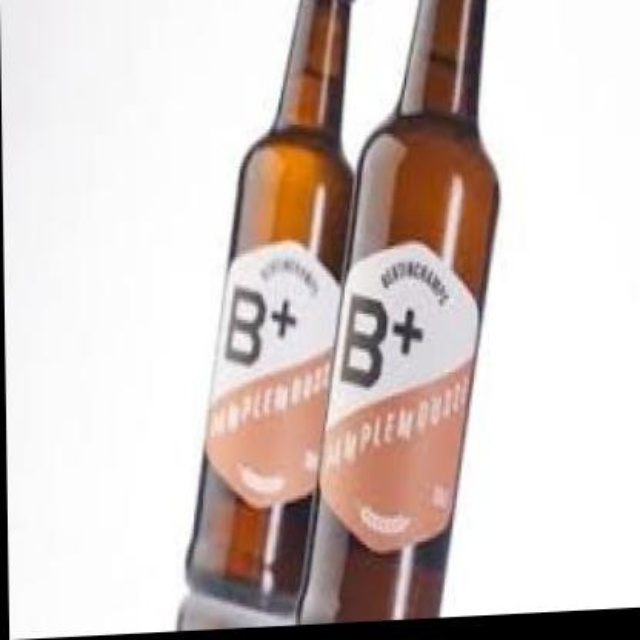trash: (302, 0, 497, 622), (180, 0, 351, 628)
